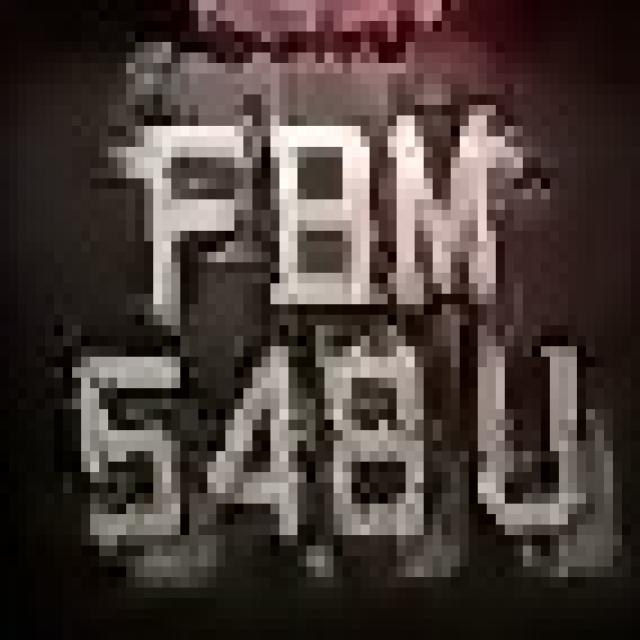4: (153, 315, 325, 556)
5: (72, 336, 198, 556)
8: (288, 283, 442, 567)
B: (252, 116, 370, 347)
F: (118, 105, 262, 346)
M: (378, 74, 514, 346)
U: (433, 325, 622, 556)
